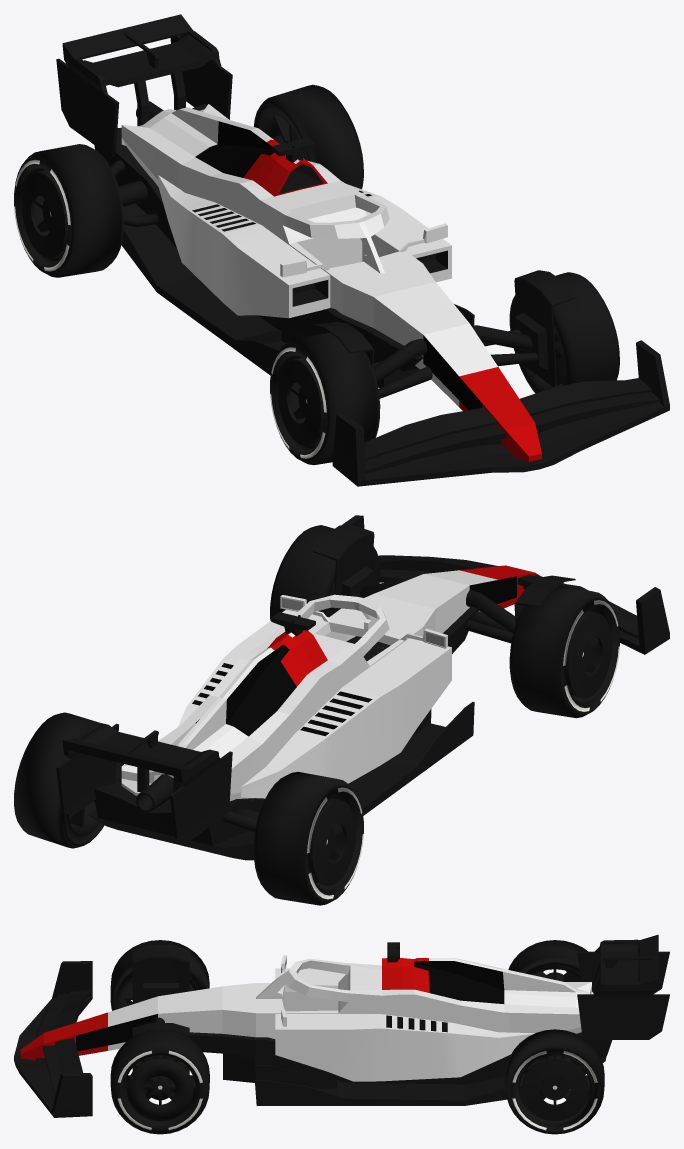
The model's file is haas_car.glb.
The picture shows the model from 3 angles, top to bottom: view 1: azimuth 30°, elevation 25°; view 2: azimuth 150°, elevation 25°; view 3: azimuth 270°, elevation 25°; orthographic projection. The views are drawn at different scales.
Visible parts, largest first — view 1: Base Unsubsurfed, Front Wing Base, Sidepod, Rear Wing, Bottom, RR_Tire, FR_Tire, FL_Tire, RL_Tire, L_Inside Cover, FRod, RRod (+1 smaller); view 2: Base Unsubsurfed, Sidepod, RR_Tire, FR_Tire, Rear Wing, Bottom, RL_Tire, Front Wing Base, FL_Tire, L_Inside Cover, FRod, R_Inside Cover (+3 smaller); view 3: Base Unsubsurfed, Sidepod, Bottom, RL_Tire, FL_Tire, Rear Wing, Front Wing Base, R_Inside Cover, RR_Tire, FR_Tire, L_Inside Cover.
Boxes of the visible parts, x1,y1,x2,y2 form: Base Unsubsurfed: (121,104,541,461); Front Wing Base: (332,340,669,486); Sidepod: (158,175,451,318); Rear Wing: (56,14,232,157); Bottom: (94,103,474,387); RR_Tire: (14,144,124,277); FR_Tire: (270,332,380,464); FL_Tire: (509,272,619,393); RL_Tire: (253,84,363,189); L_Inside Cover: (514,270,575,387); FRod: (373,325,538,398); RRod: (110,160,158,227); Base Unsubsurfed: (121,565,539,801); Sidepod: (178,609,451,798); RR_Tire: (253,771,363,905); FR_Tire: (509,585,619,718); Rear Wing: (56,722,232,843); Bottom: (87,607,477,860); RL_Tire: (14,712,123,848); Front Wing Base: (342,515,669,654); FL_Tire: (270,525,380,620); L_Inside Cover: (313,524,374,614); FRod: (353,576,515,643); R_Inside Cover: (514,575,575,624); Base Unsubsurfed: (20,955,593,1060); Sidepod: (275,968,534,1081); Bottom: (189,1032,612,1105); RL_Tire: (505,1029,604,1134); FL_Tire: (110,1031,209,1134); Rear Wing: (577,934,669,1039); Front Wing Base: (14,961,92,1117); R_Inside Cover: (132,945,189,1003); RR_Tire: (508,940,587,981); FR_Tire: (110,940,209,1010); L_Inside Cover: (132,1023,189,1089).
Size of the model in its own units: 5.15 by 2.77 by 12.15.
